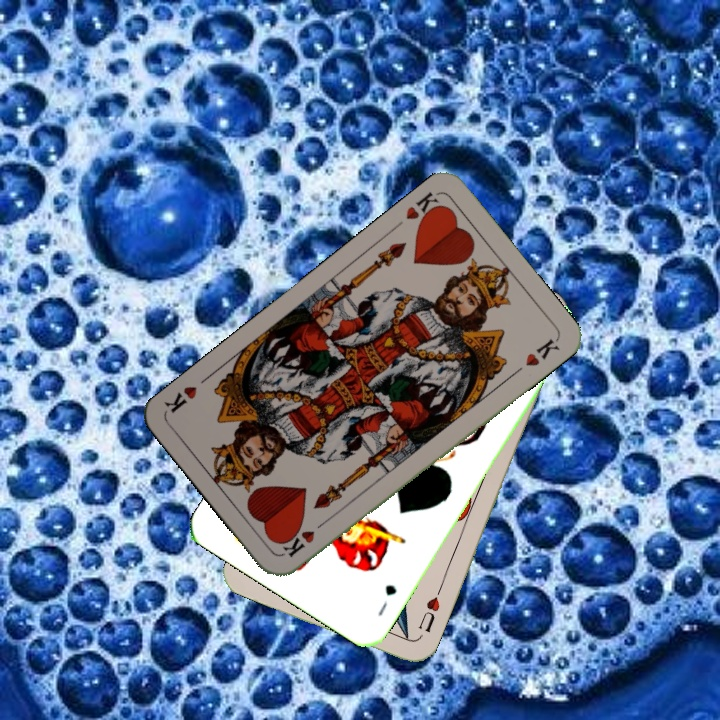GU: (373, 580, 400, 619)
HK: (278, 515, 330, 560), (402, 188, 446, 229)
HU: (414, 585, 444, 635)
